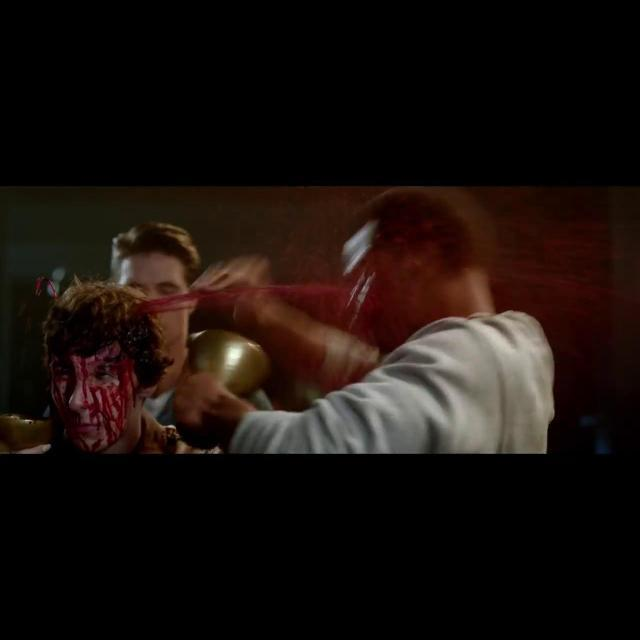blood: (140, 190, 496, 352), (48, 313, 169, 454), (34, 277, 58, 300), (51, 267, 64, 282), (17, 300, 27, 316), (24, 315, 30, 332)
